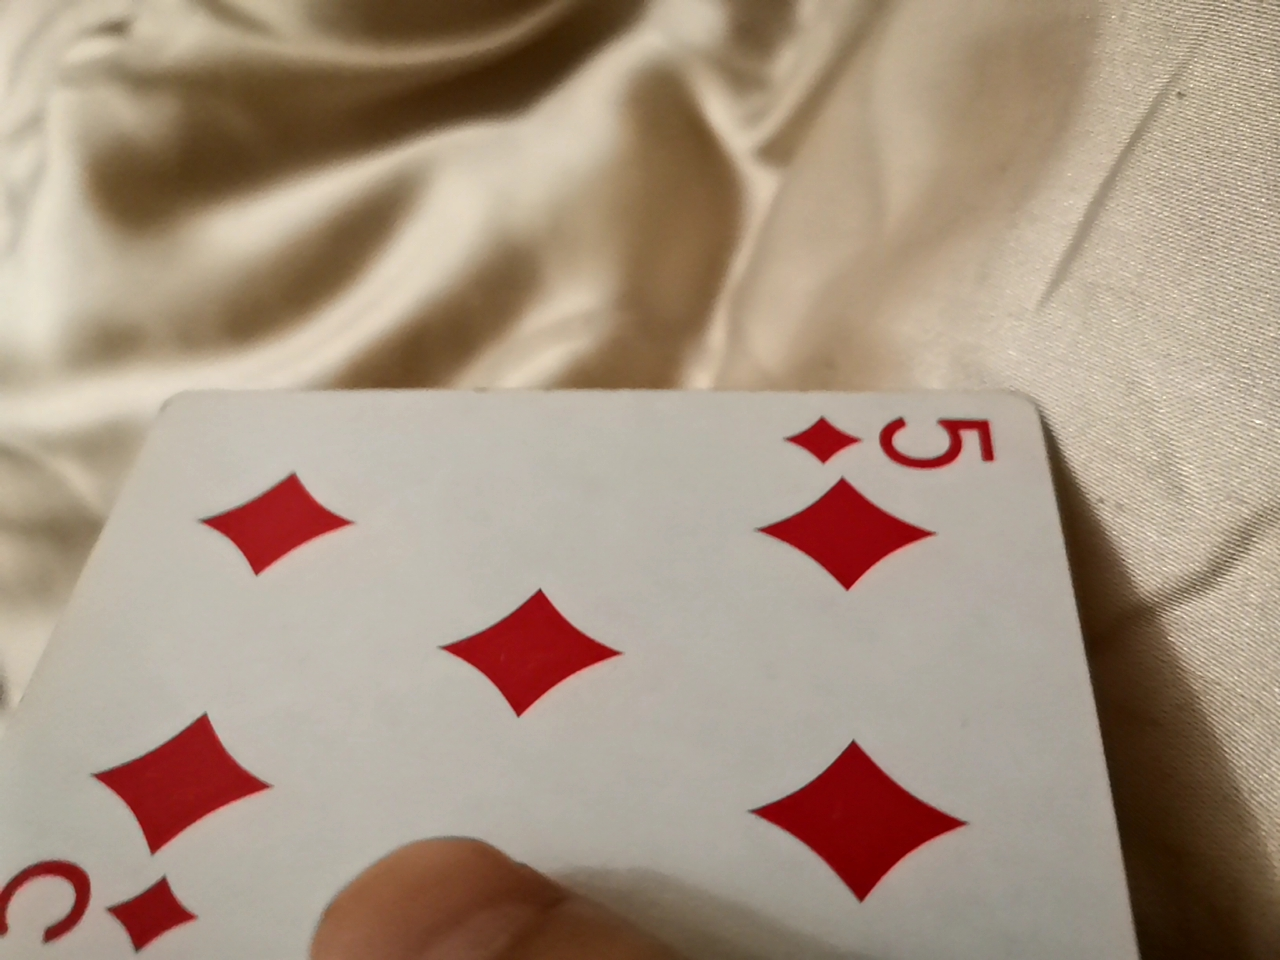fk 5: (13, 326, 1126, 947)
